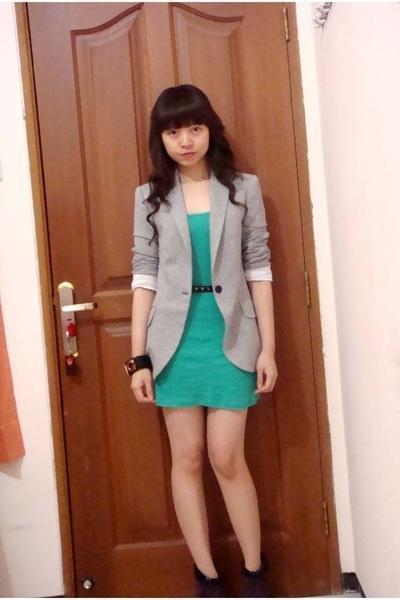dress: (151, 213, 259, 411)
jacket: (132, 173, 270, 371)
shoe: (180, 570, 227, 599)
